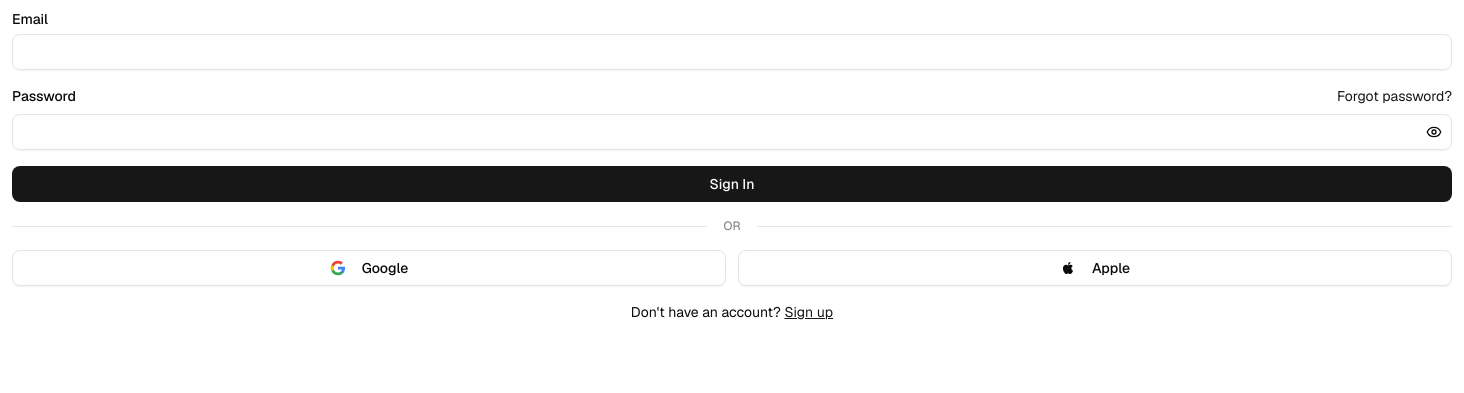
Test case: LoginForm › shows validation errors for empty fields
Click the button "Sign In": click(732, 184) left=12, top=166, right=1452, bottom=202
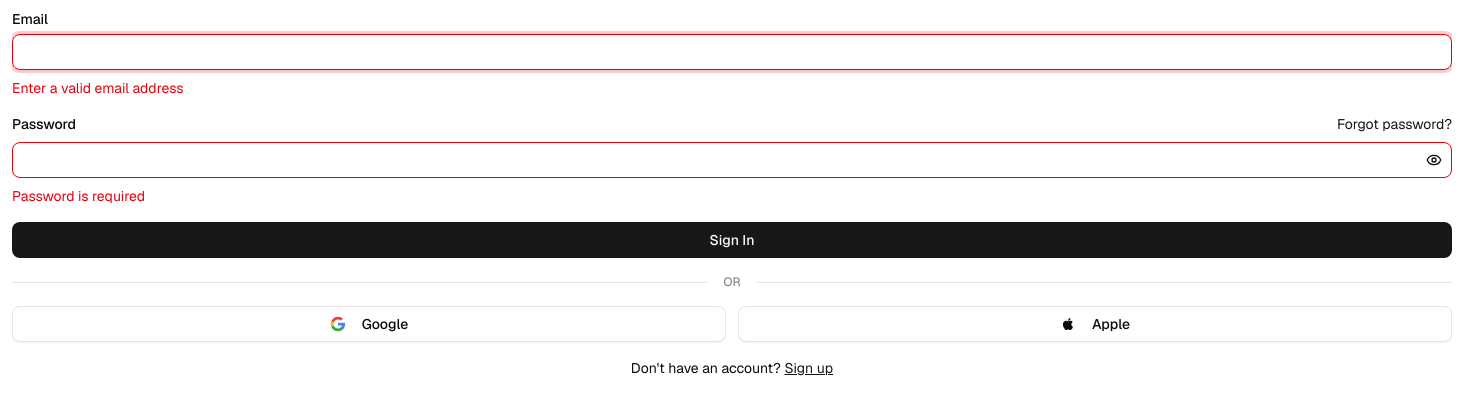
Expected: the text "Enter a valid email address" is shown, left=12, top=79, right=184, bottom=97
